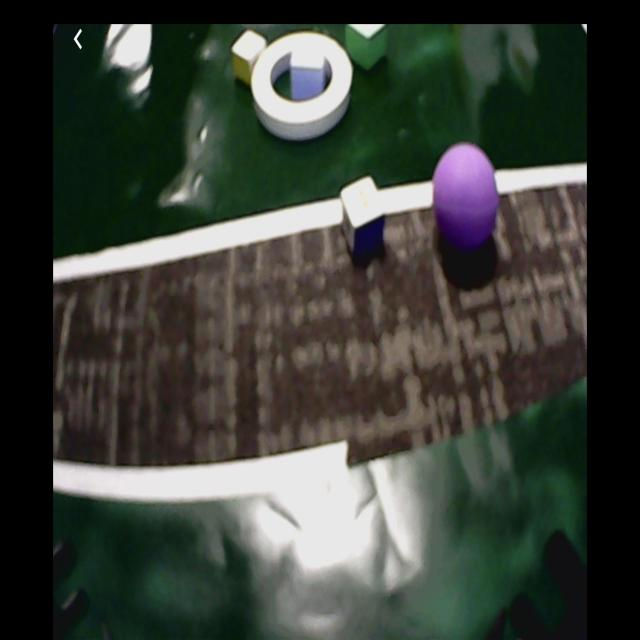ball: (432, 143, 498, 244)
